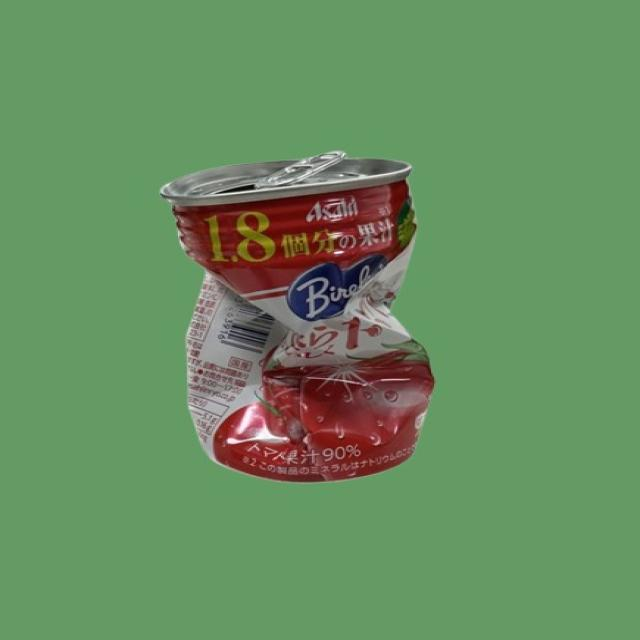Can: (149, 152, 442, 484)
